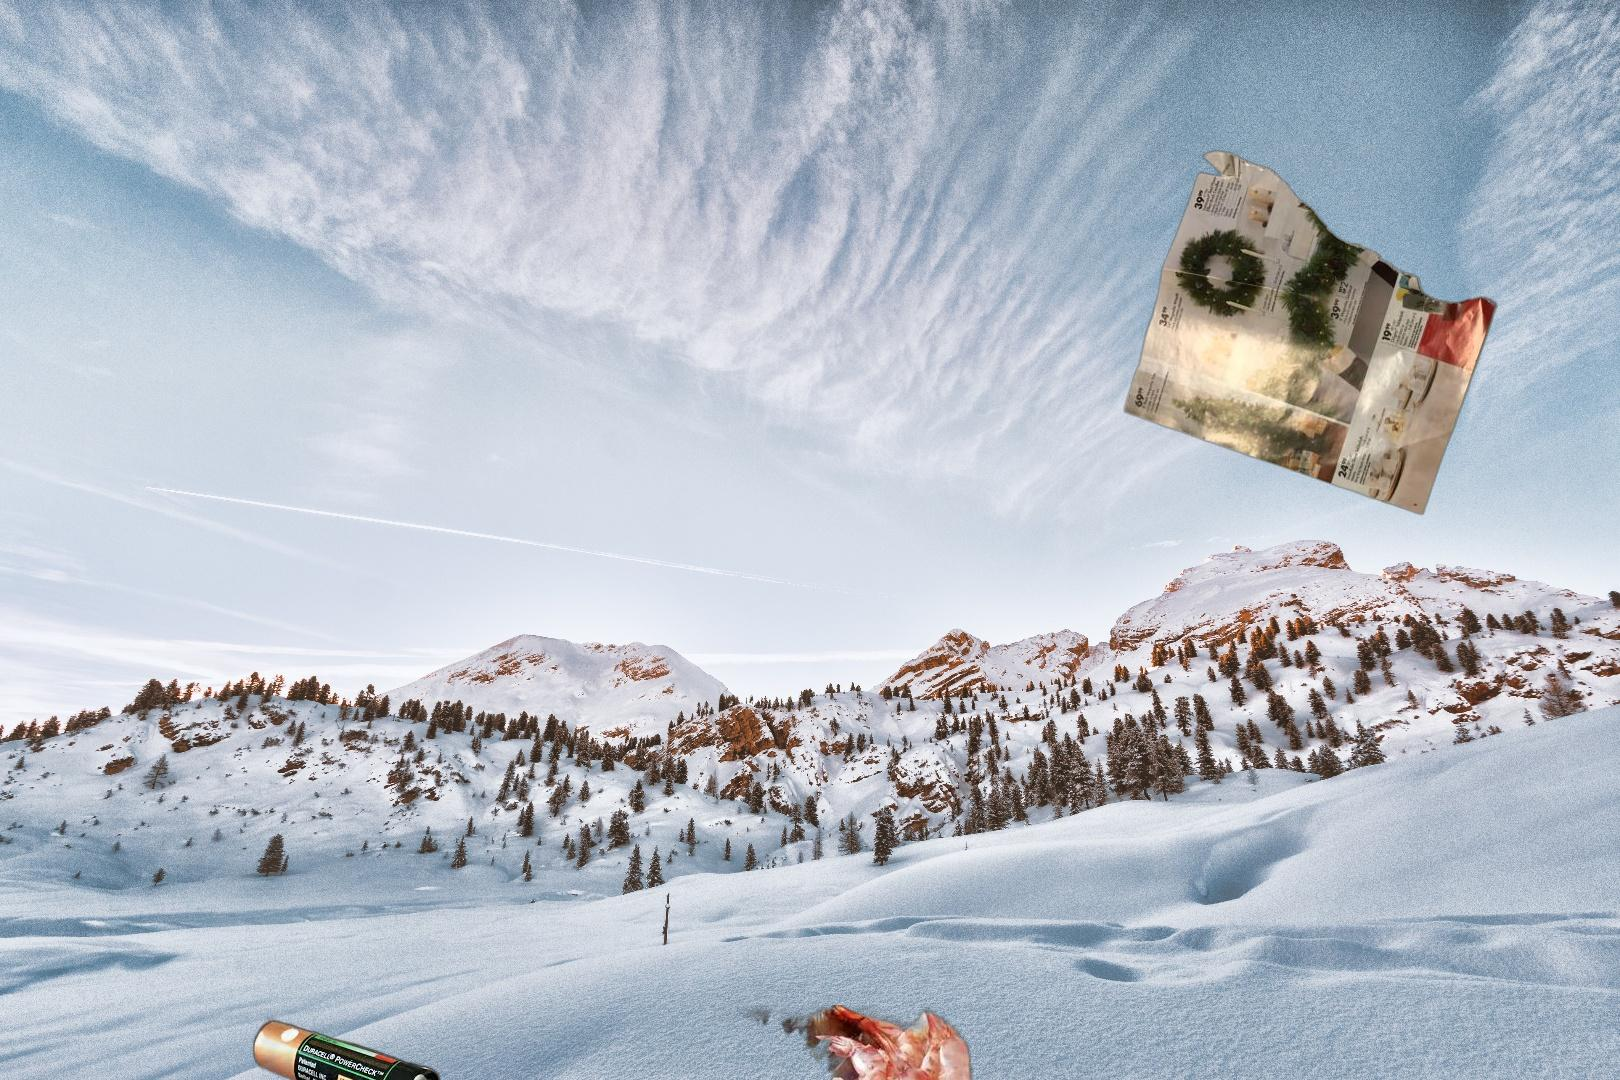battery: (251, 1014, 443, 1080)
biological: (594, 1005, 1007, 1080)
paper: (1120, 147, 1501, 518)
